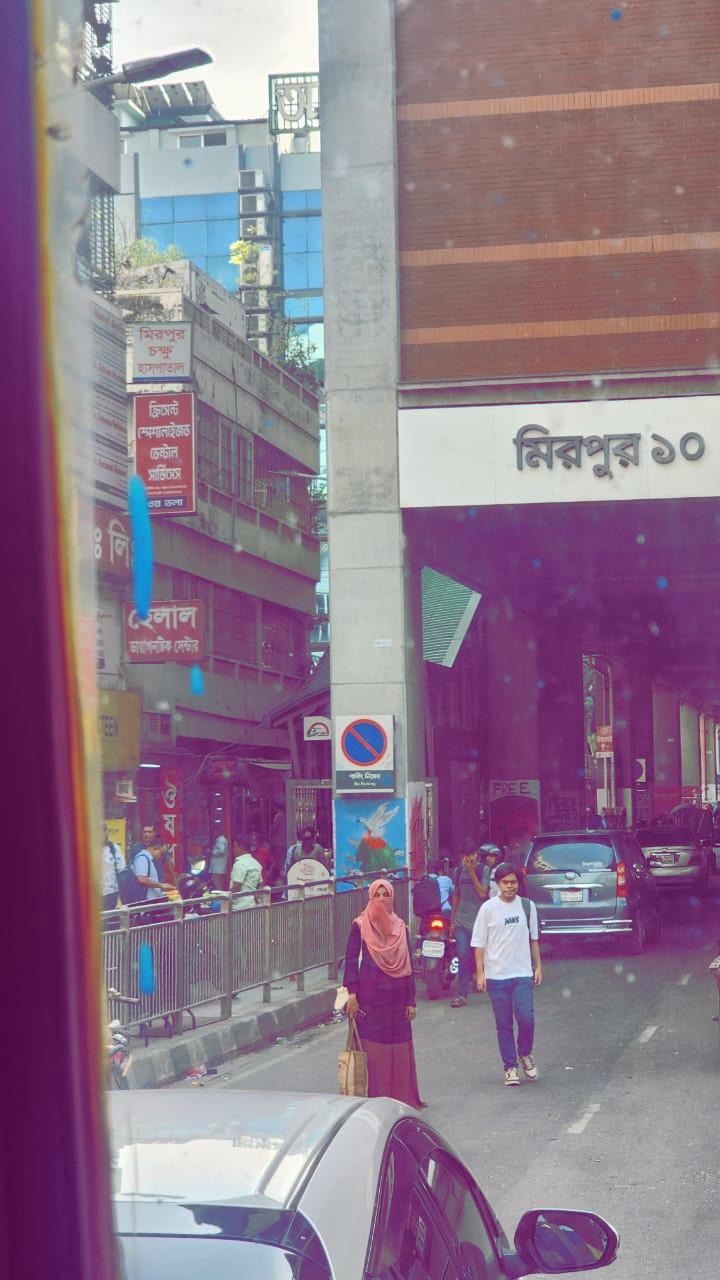No Parking: (332, 713, 395, 795)
